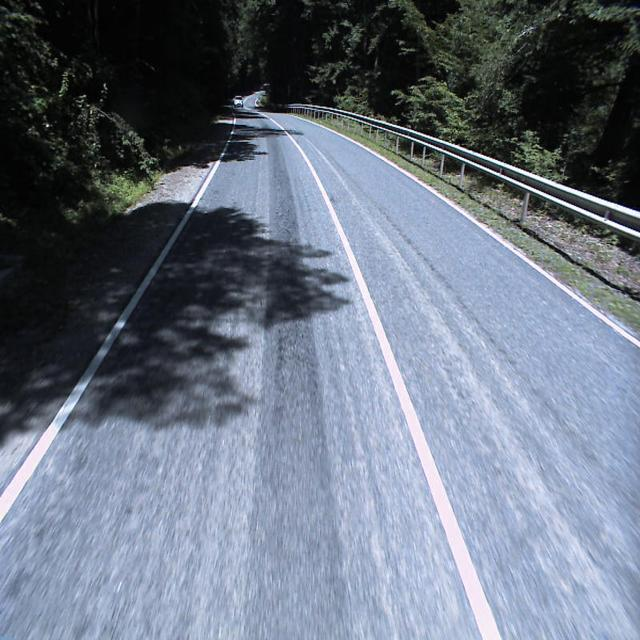road: (0, 92, 640, 639)
